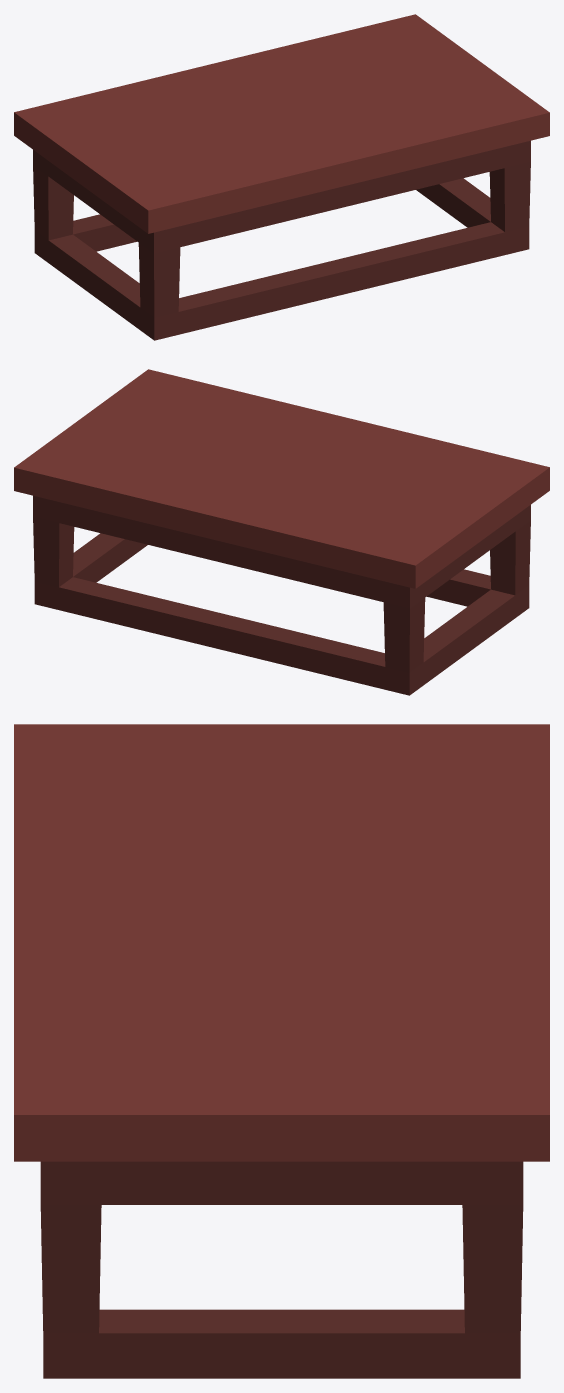
Rendered from quaternius-coffee-table-2.glb.
3 renders of one model, top to bottom at view 1: azimuth 30°, elevation 25°; view 2: azimuth 150°, elevation 25°; view 3: azimuth 270°, elevation 25°, orthographic. The views are drawn at different scales.
Parts seen in each view (by area): view 1: Coffee Table 2; view 2: Coffee Table 2; view 3: Coffee Table 2.
Boxes of the visible parts, box(x1,y1,x2,y2) form: Coffee Table 2: box(14, 14, 549, 340); Coffee Table 2: box(14, 369, 549, 695); Coffee Table 2: box(14, 724, 549, 1378).
Size of the model in its own units: 1.02 by 0.3354 by 0.5889.
